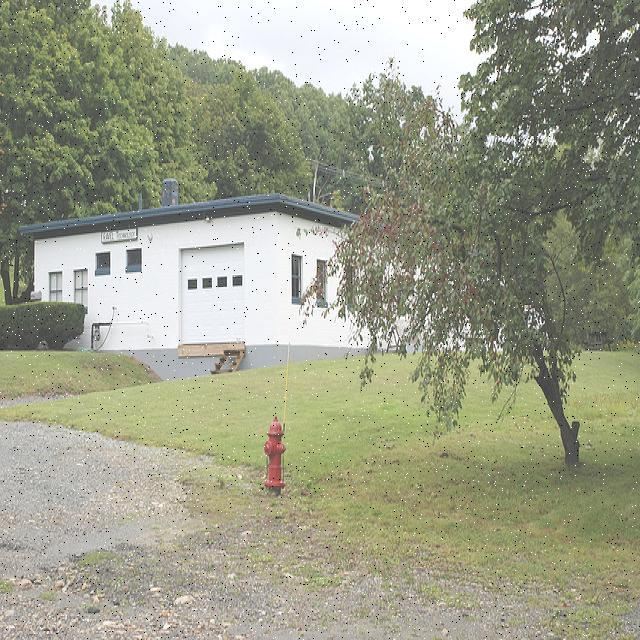fire_hydrant: (262, 414, 285, 494)
